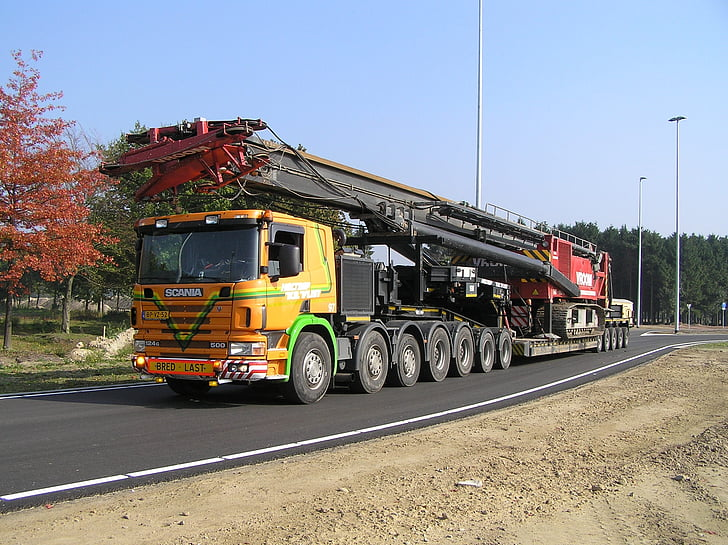truck: (101, 117, 635, 405)
